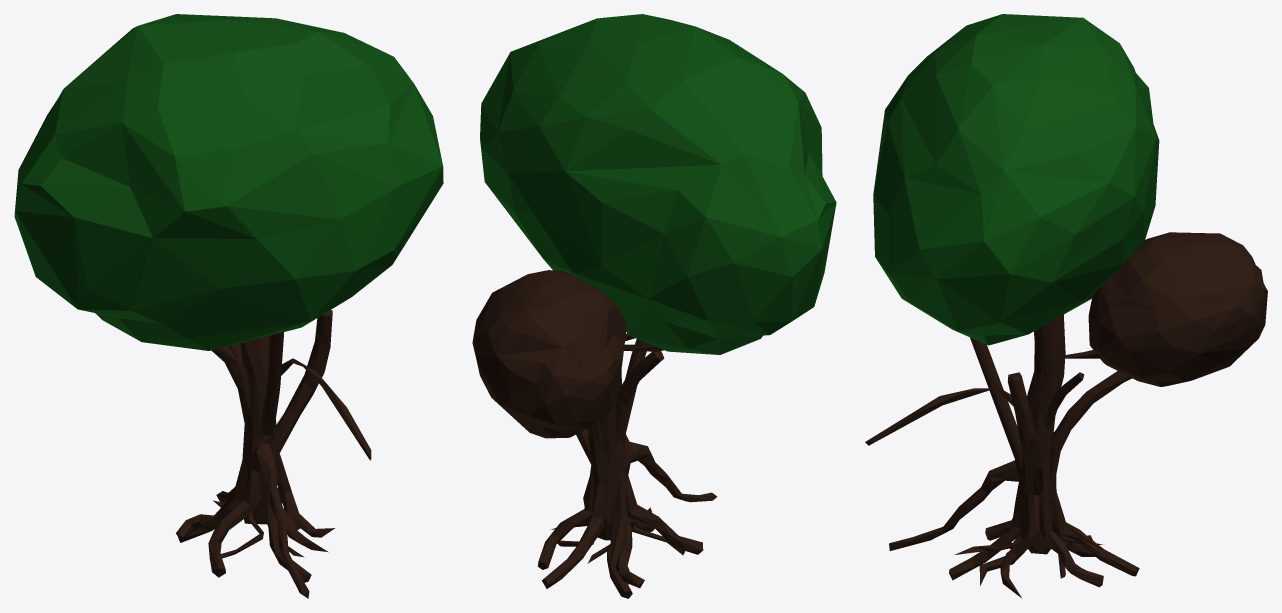
File: SM_tree_17.fbx
3 views of the same model, side by side, from view 1: azimuth 30°, elevation 25°; view 2: azimuth 150°, elevation 25°; view 3: azimuth 270°, elevation 25° (orthographic). The views are drawn at different scales.
Visible parts, largest first — view 1: tree_17; view 2: tree_17; view 3: tree_17.
Part boxes in pixels (x1,y1,x2,y2): tree_17: (14,14,443,598); tree_17: (472,14,836,598); tree_17: (865,14,1267,598).
Bounding box in the file's own units: 540 × 739 × 518.
